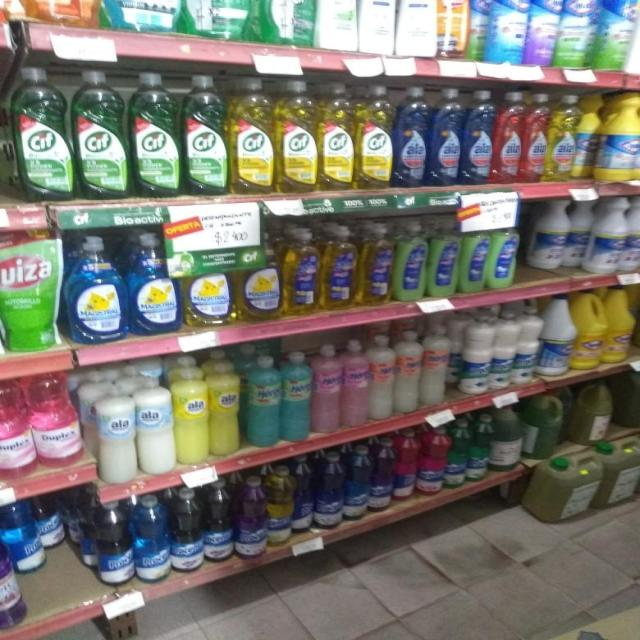ala_conc_amarillo: (549, 94, 576, 184), (17, 0, 92, 26)
ala_conc_azul: (395, 85, 429, 188), (431, 87, 462, 187), (464, 90, 493, 186)
ala_conc_rojo: (494, 90, 522, 184), (524, 92, 548, 184)
ala_crem_amarillo: (175, 357, 208, 466), (209, 354, 241, 458)
ala_crem_blanco: (95, 380, 136, 484), (136, 370, 174, 476)
cif_conc_bot_amarilla: (230, 77, 275, 196), (276, 79, 317, 194), (319, 83, 355, 192), (357, 84, 393, 191)
cif_conc_botella_verde: (14, 66, 71, 203), (74, 70, 128, 200), (130, 71, 180, 199), (183, 74, 228, 196), (185, 0, 252, 41), (0, 61, 11, 202)
heroe: (245, 353, 281, 448), (282, 351, 311, 443)
magistral_con_amarillo: (183, 235, 232, 328), (233, 231, 280, 324)
magistral_con_azul: (66, 234, 125, 344), (129, 232, 180, 337)
zorro: (283, 227, 319, 317), (322, 224, 357, 311), (360, 222, 392, 307), (394, 220, 426, 303), (429, 218, 458, 298)
